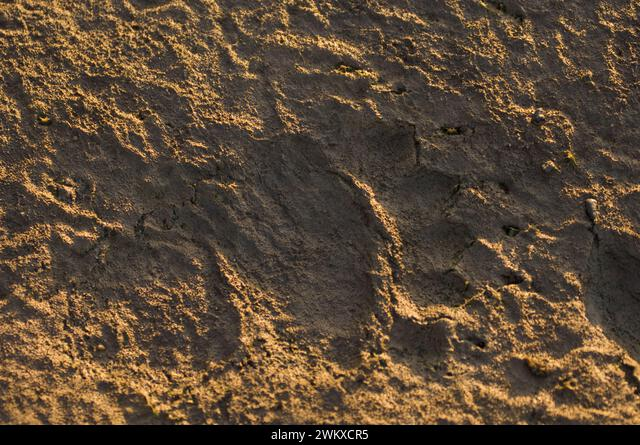bear: (193, 83, 519, 358)
